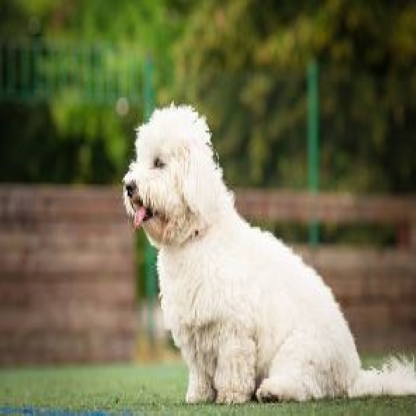maltese: (113, 103, 408, 401)
